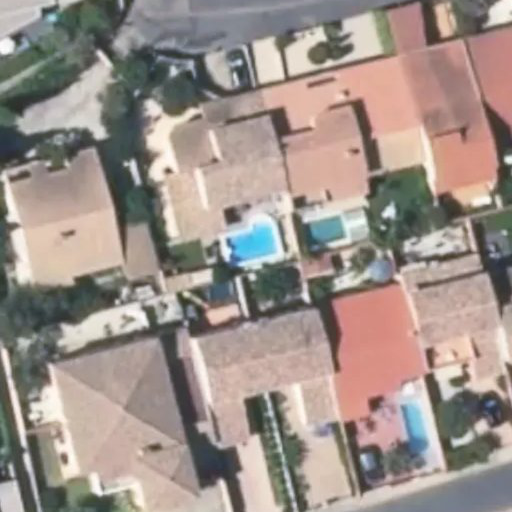pool: (225, 236, 286, 248)
